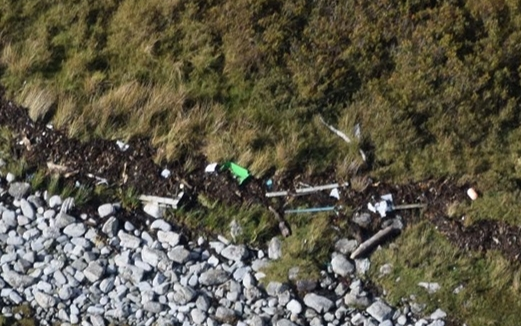scattered_barrel: (124, 103, 430, 218)
straight_bar: (344, 224, 398, 264)
tube: (261, 177, 353, 201), (325, 124, 368, 160)
white_in_green: (450, 171, 491, 213)
